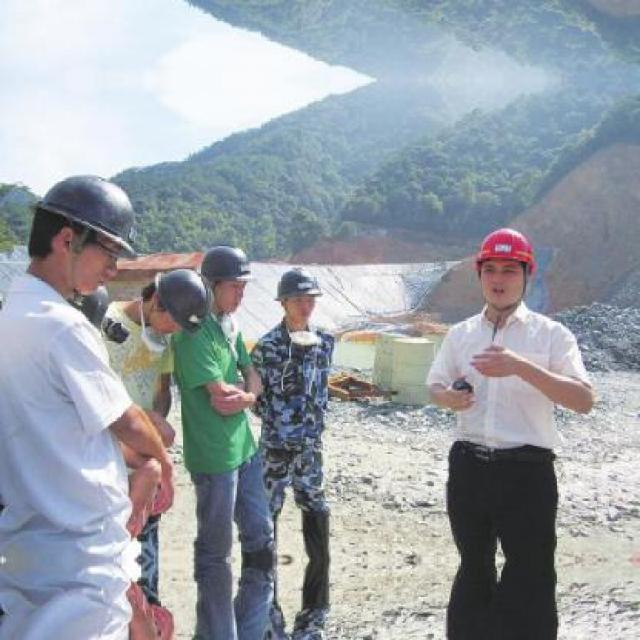helmet: (24, 162, 148, 293), (462, 220, 541, 318), (138, 262, 216, 338), (197, 239, 255, 315), (274, 266, 323, 322)
